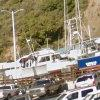Boat: (4, 44, 75, 89)
